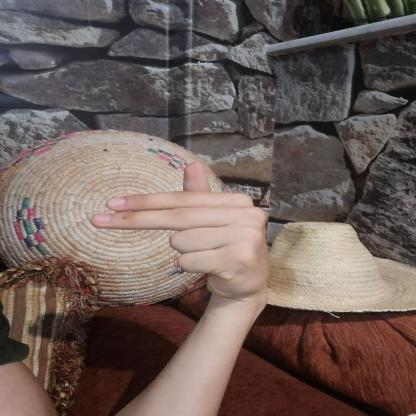GHAYN: (76, 152, 286, 310)
